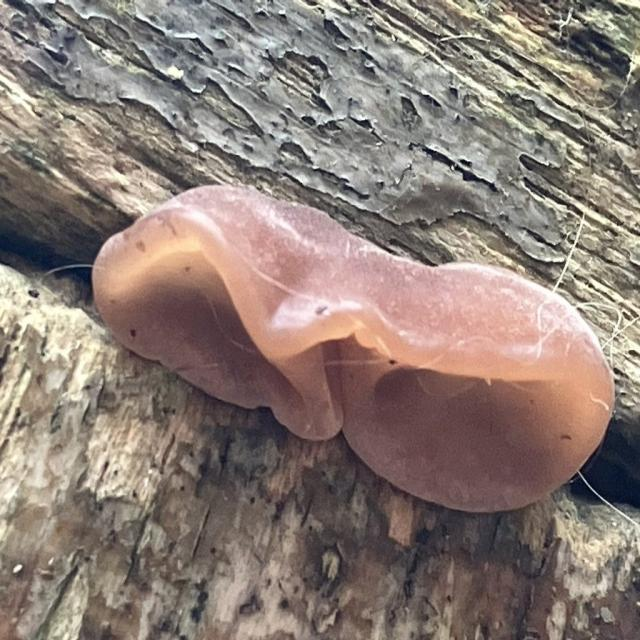Fase Muda: (84, 176, 616, 541)
